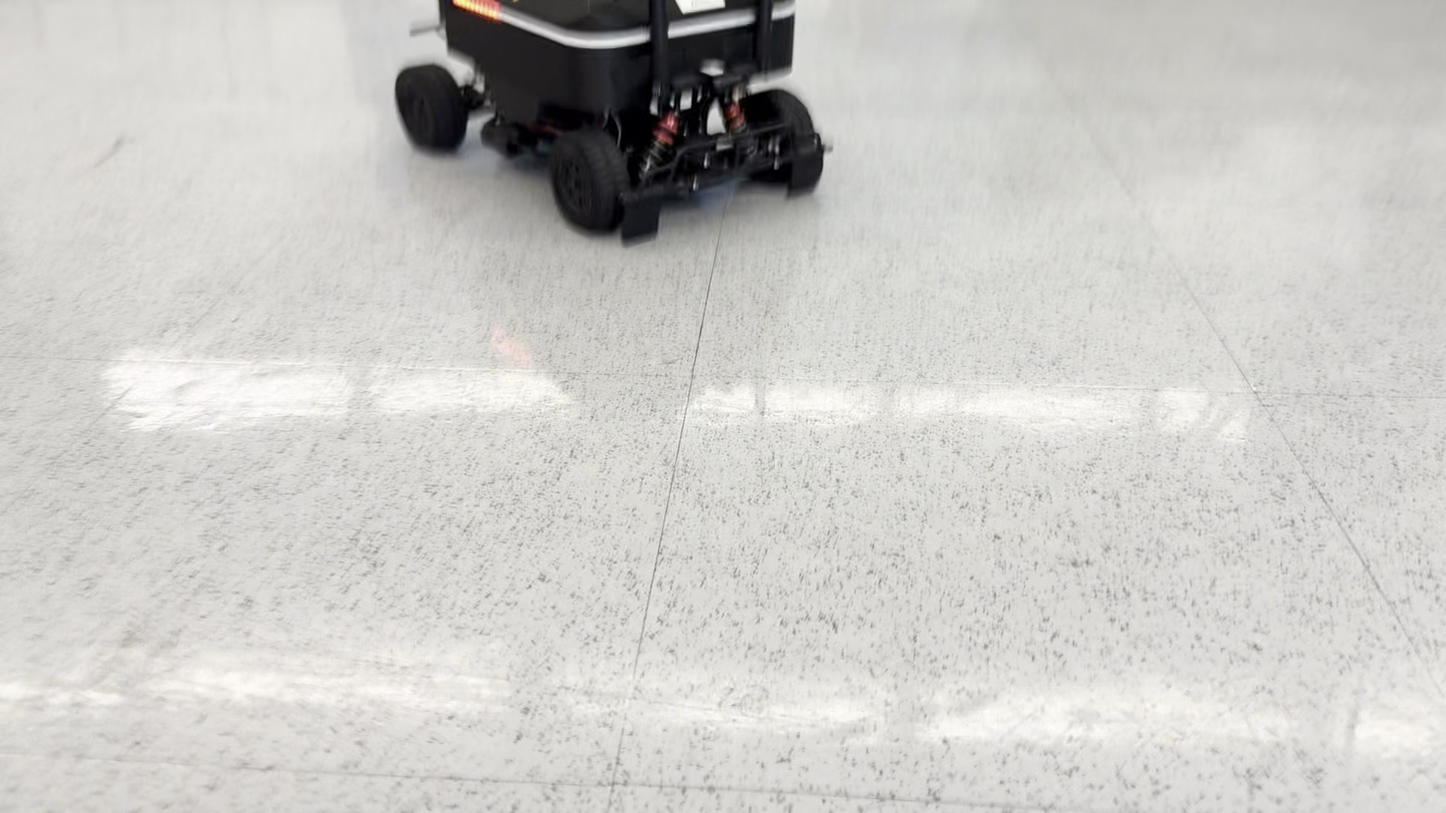racecar: (396, 0, 829, 243)
